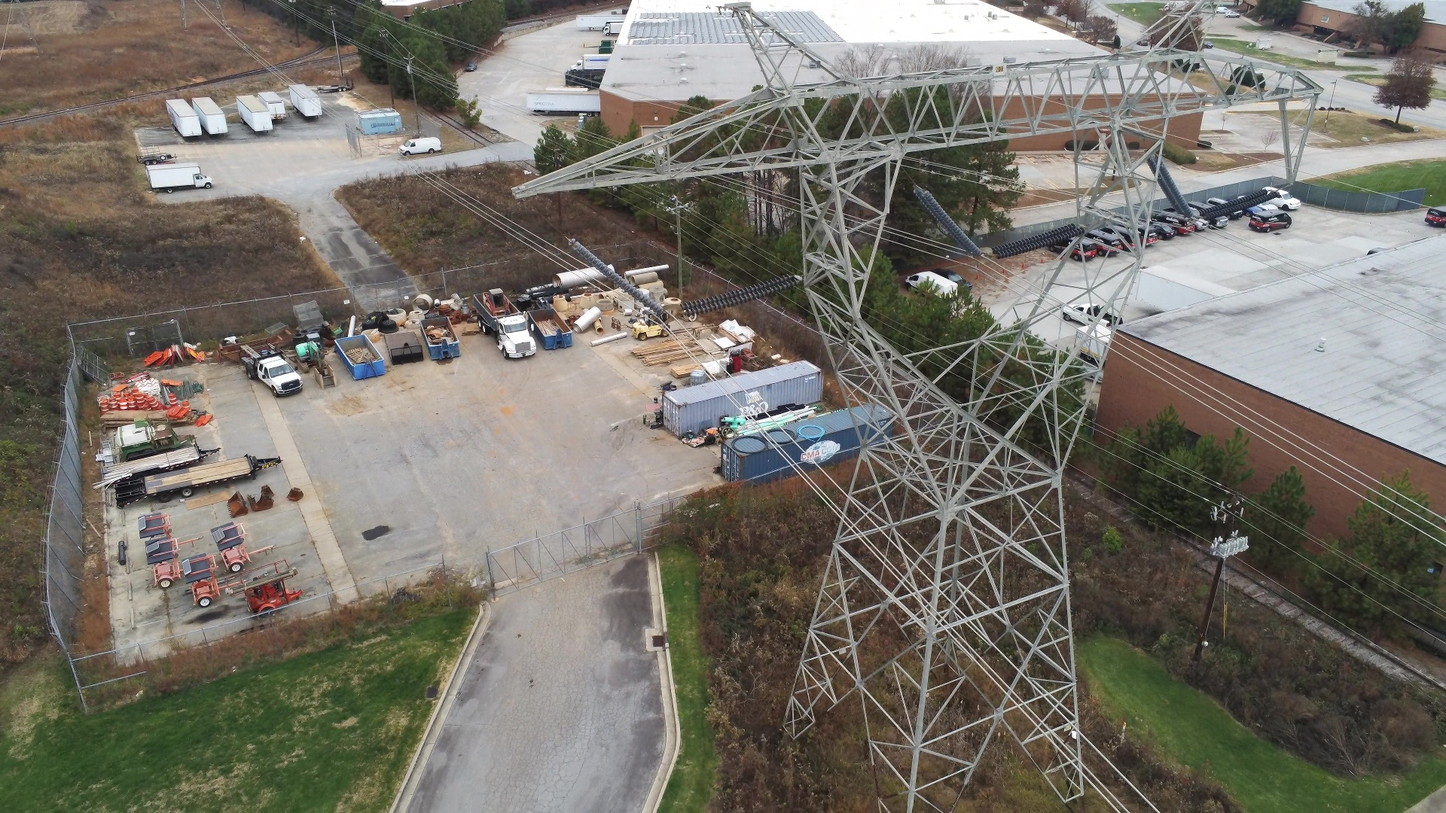insulator: (567, 236, 665, 317), (679, 271, 801, 318), (911, 184, 983, 260), (990, 221, 1087, 260), (1146, 151, 1197, 221), (1197, 187, 1282, 223)
